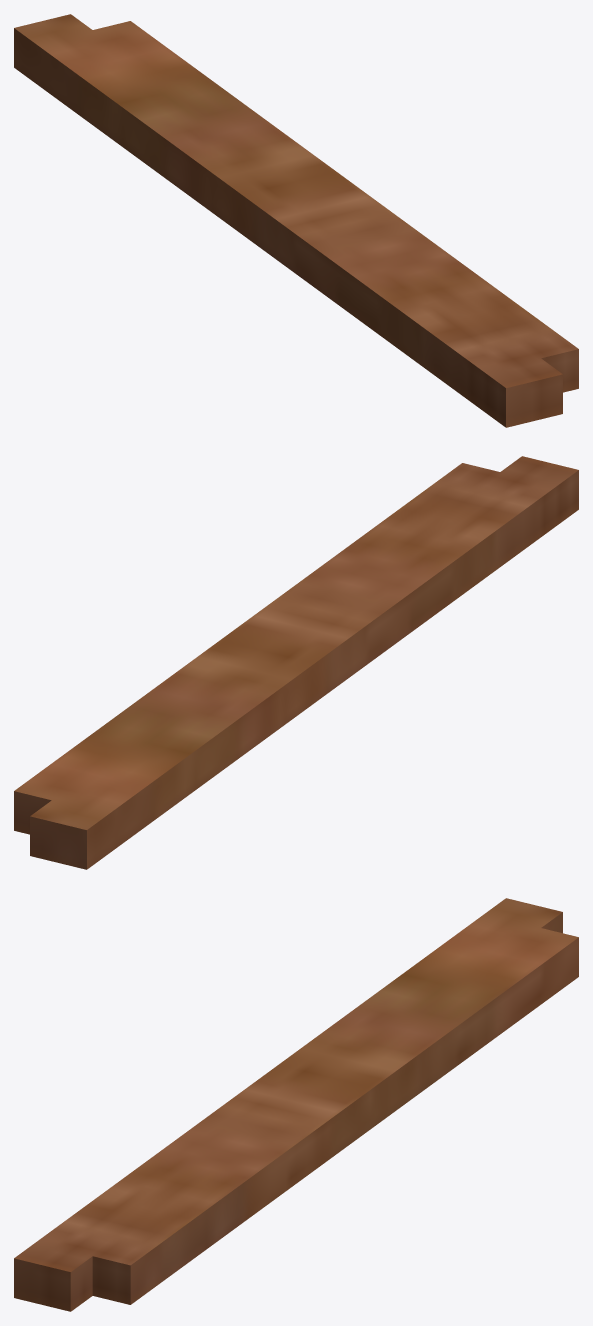
The model's file is original-13.obj.
The picture shows the model from 3 angles, top to bottom: view 1: azimuth 30°, elevation 25°; view 2: azimuth 150°, elevation 25°; view 3: azimuth 330°, elevation 25°; orthographic projection.
Visible parts, largest first — view 1: Group14/mesh20/mesh20-geometry#mesh20-geometry; view 2: Group14/mesh20/mesh20-geometry#mesh20-geometry; view 3: Group14/mesh20/mesh20-geometry#mesh20-geometry.
Part boxes in pixels (x1,y1,x2,y2): Group14/mesh20/mesh20-geometry#mesh20-geometry: (14, 14, 578, 427); Group14/mesh20/mesh20-geometry#mesh20-geometry: (14, 456, 578, 869); Group14/mesh20/mesh20-geometry#mesh20-geometry: (14, 898, 578, 1311).
Bounding box in the file's own units: 0.049 × 0.0196 × 0.4412.
